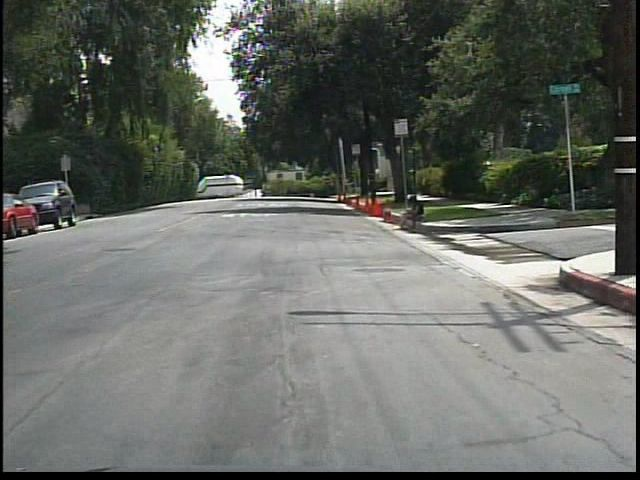person: (393, 191, 428, 236)
